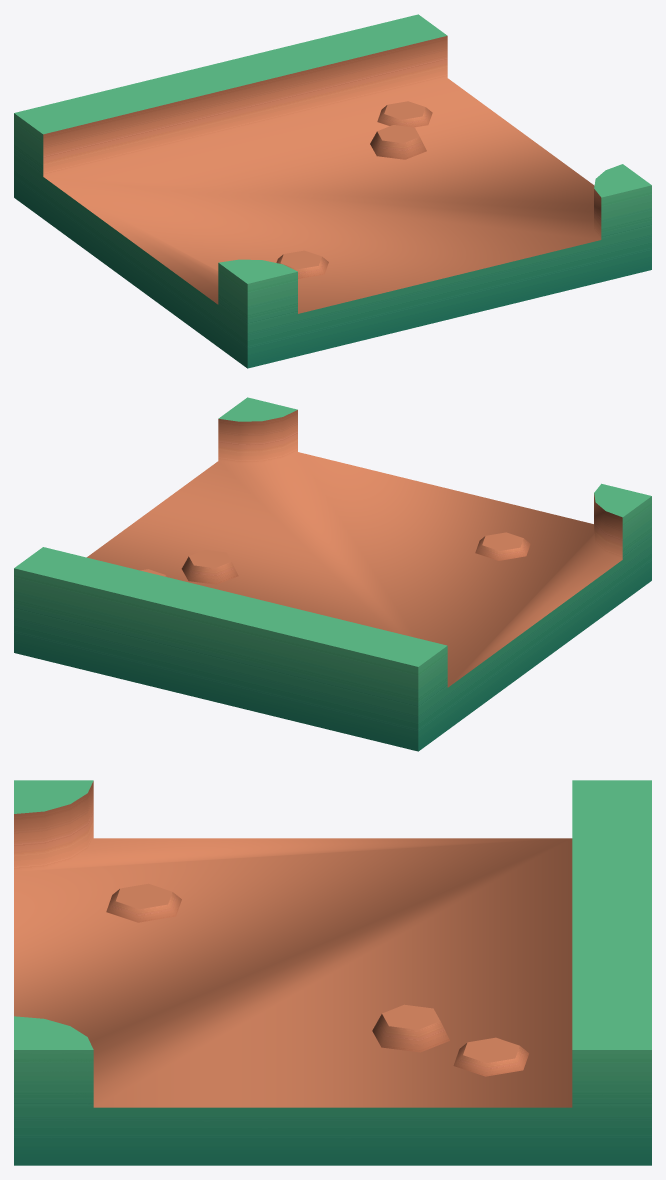
File: tile-split.glb
3 renders of one model, top to bottom at view 1: azimuth 30°, elevation 25°; view 2: azimuth 150°, elevation 25°; view 3: azimuth 270°, elevation 25°, orthographic. The views are drawn at different scales.
Visible parts, largest first — view 1: tile-split; view 2: tile-split; view 3: tile-split.
Part boxes in pixels (bbox=[...]): tile-split: bbox=[14, 14, 651, 368]; tile-split: bbox=[14, 397, 651, 751]; tile-split: bbox=[14, 780, 651, 1165].
Bounding box in the file's own units: 1 × 0.2 × 1.
Materials: 1 (1 with a texture image).
